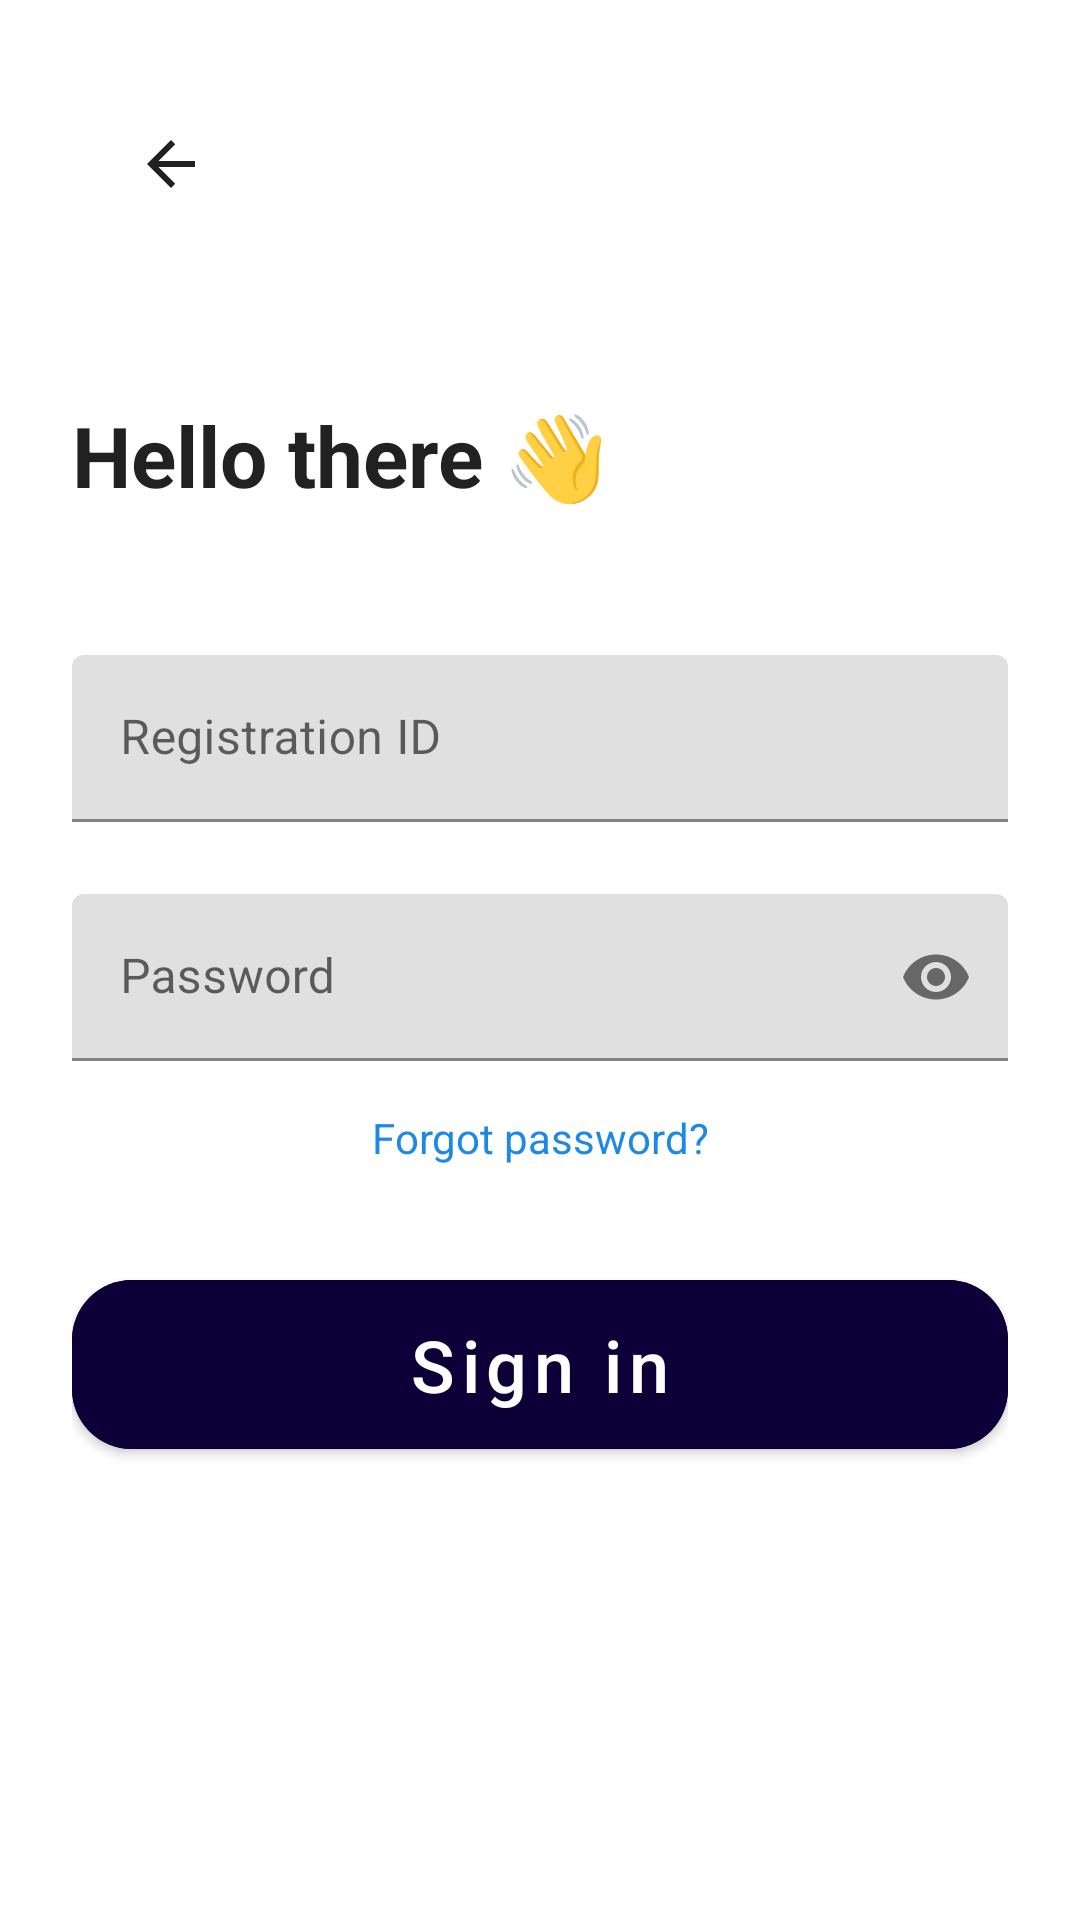

Icon click points for this 1080 × 1920 phone screenshot, format point (x, y):
Navigate back to previous screen: point (171, 164)
